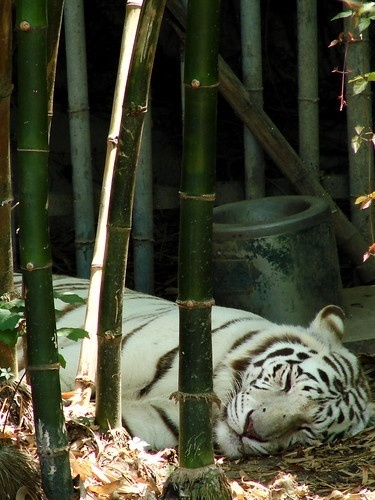tigre: (1, 268, 374, 452)
